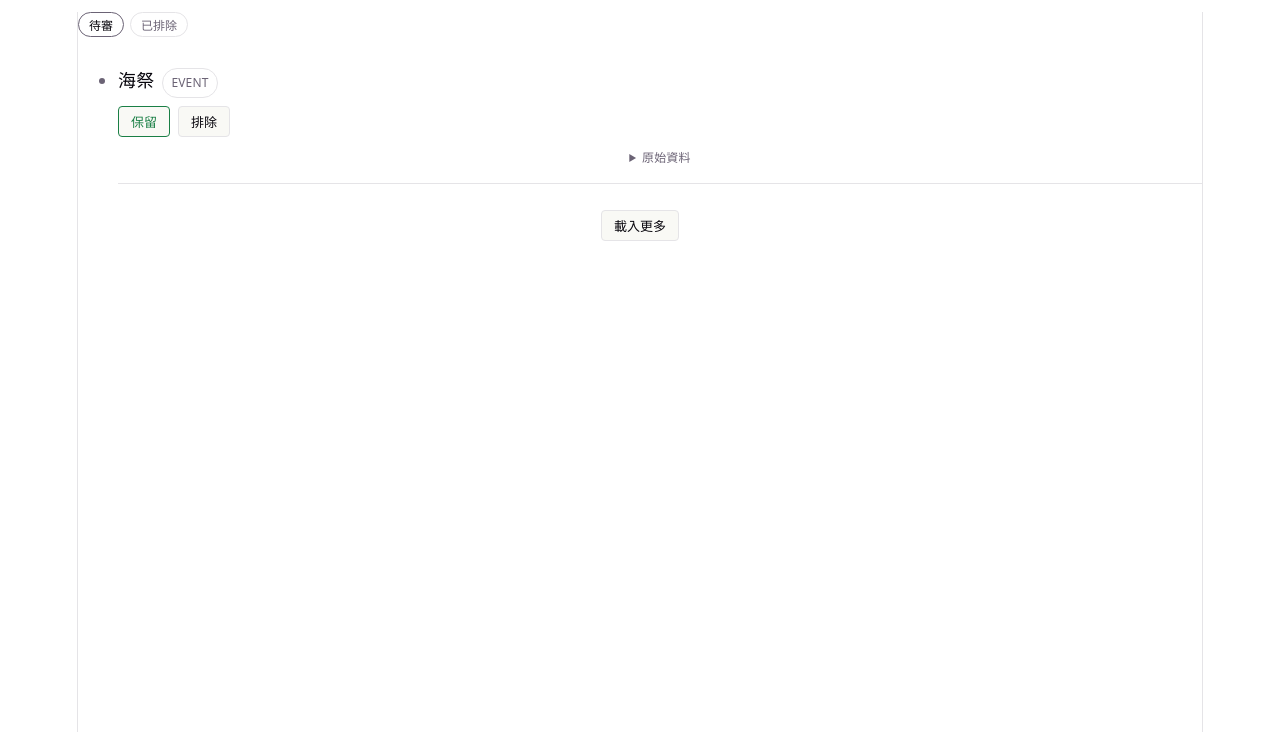
Test: EntityReview › 重新載入 after a build-swap pin trip restarts from page 1 and recovers (Codex #108 P2)
The width and height of the screenshot is (1280, 732).
Expected: the text "海祭" is shown, [118, 67, 154, 93]
Step 1. Click the button "載入更多" → (640, 226), box [601, 210, 679, 241]
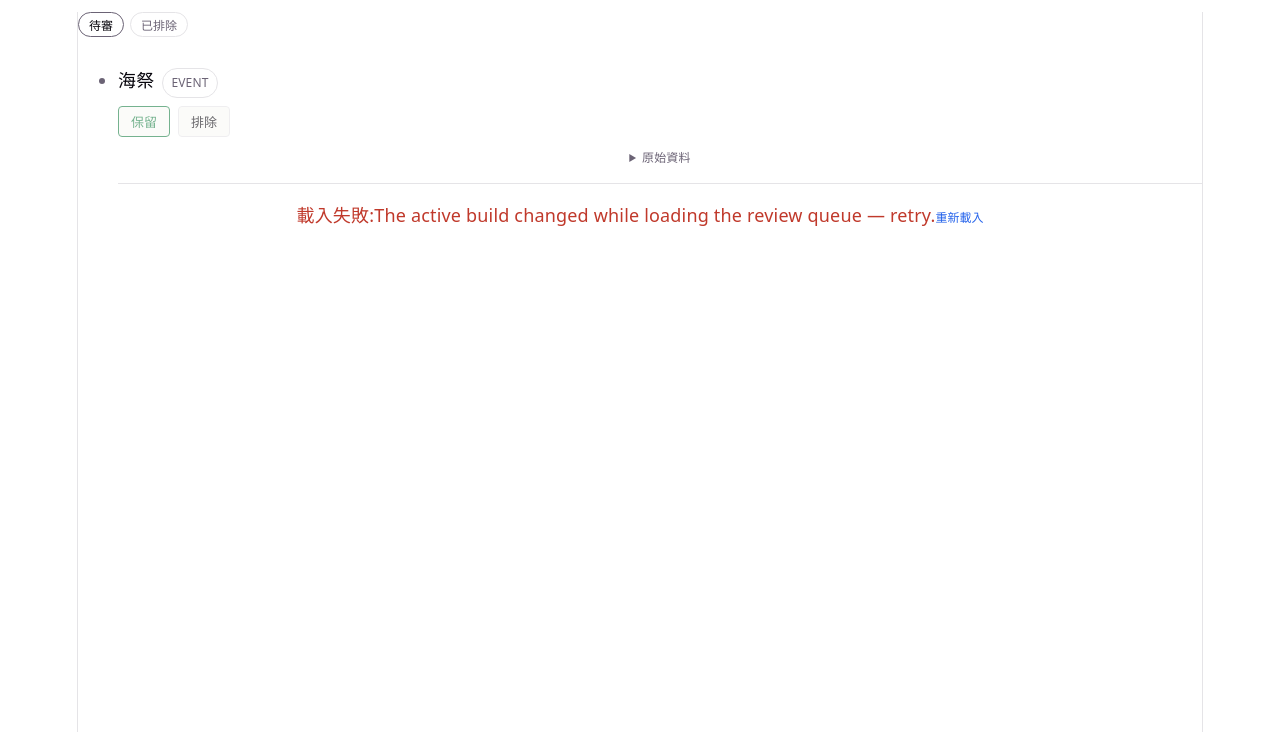
Now the text "active build changed" is shown, box [374, 203, 936, 227]
Step 2. Click the button "重新載入" → (960, 217), box [936, 208, 984, 225]
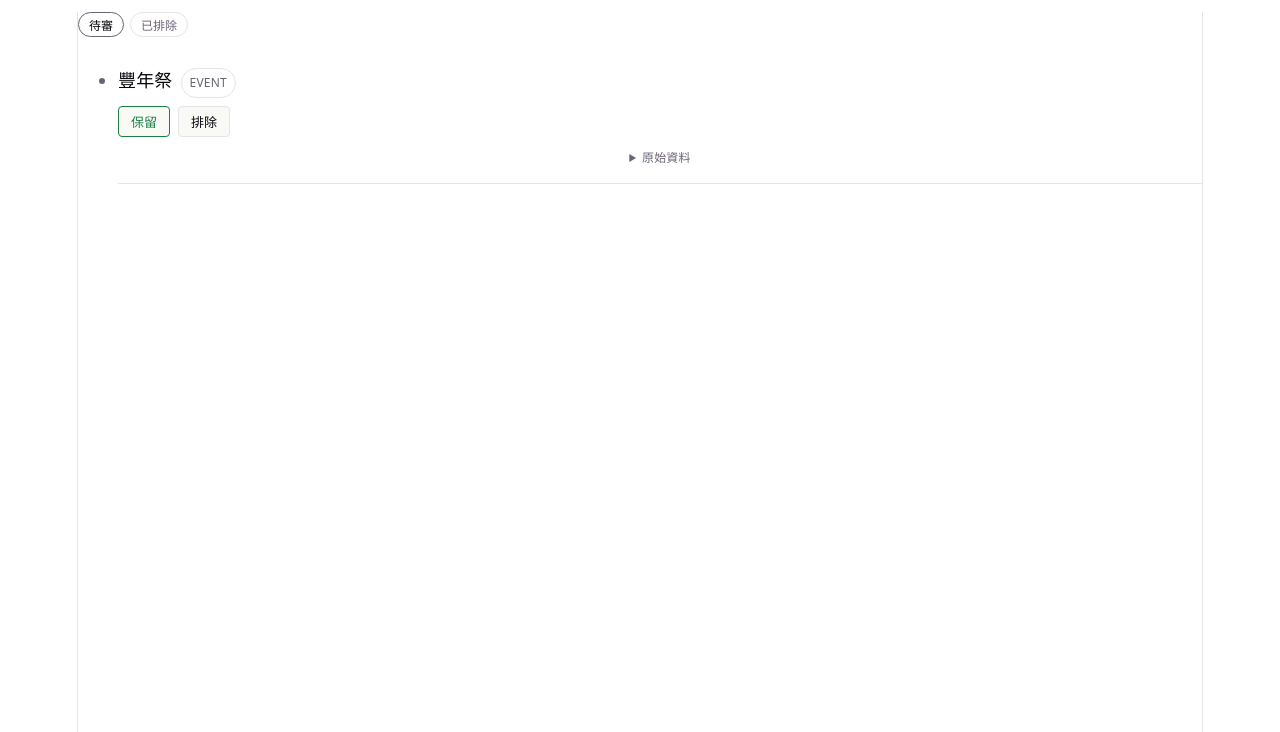
Now the text "豐年祭" is shown, box [118, 67, 172, 93]
Now the text "active build changed" is gone
